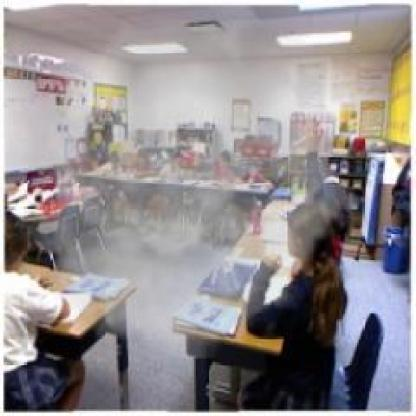Smoke: (15, 19, 363, 359)
